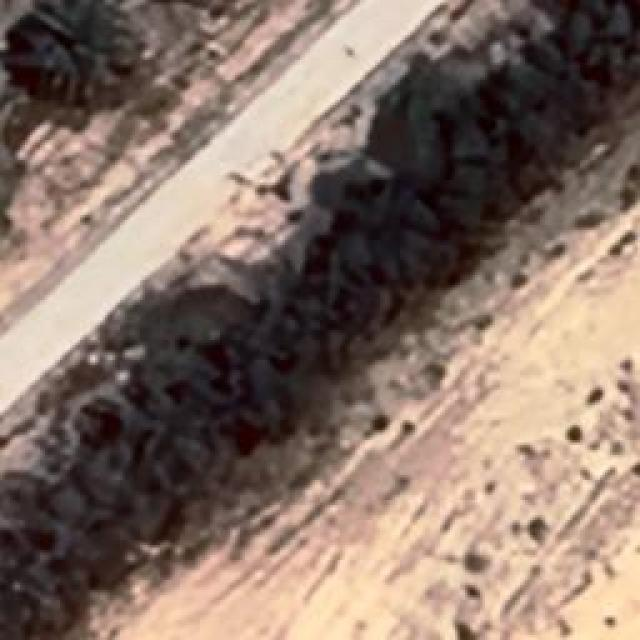PalmTree: (4, 0, 134, 105)
